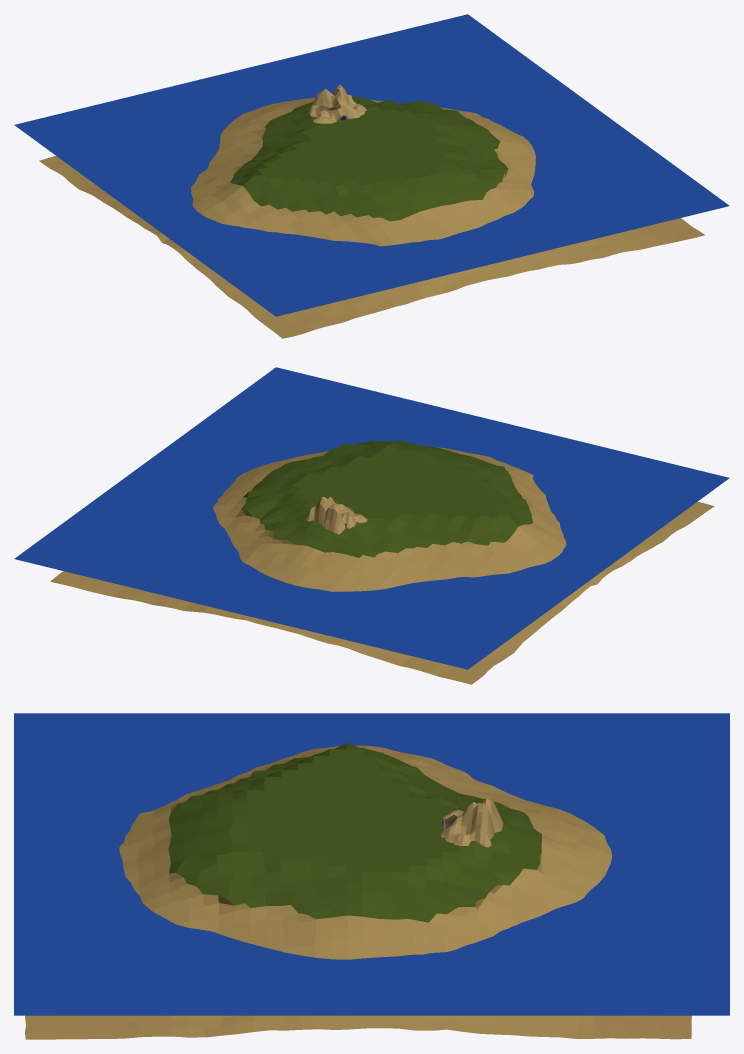
Rendered from CaveIsland 1.FBX.
The picture shows the model from 3 angles, top to bottom: view 1: azimuth 30°, elevation 25°; view 2: azimuth 150°, elevation 25°; view 3: azimuth 270°, elevation 25°; orthographic projection. The views are drawn at different scales.
Parts seen in each view (by area): view 1: sea, island, Hill_Dirt_01; view 2: sea, island, Hill_Dirt_01; view 3: sea, island, Hill_Dirt_01.
Boxes of the visible parts, x1,y1,x2,y2 form: sea: (14, 14, 729, 316); island: (39, 96, 704, 338); Hill_Dirt_01: (309, 84, 366, 123); sea: (14, 367, 729, 669); island: (50, 440, 714, 684); Hill_Dirt_01: (306, 496, 367, 534); sea: (14, 713, 729, 1015); island: (25, 743, 691, 1039); Hill_Dirt_01: (440, 797, 503, 847).
Size of the model in its own units: 5913 by 963 by 5913.
